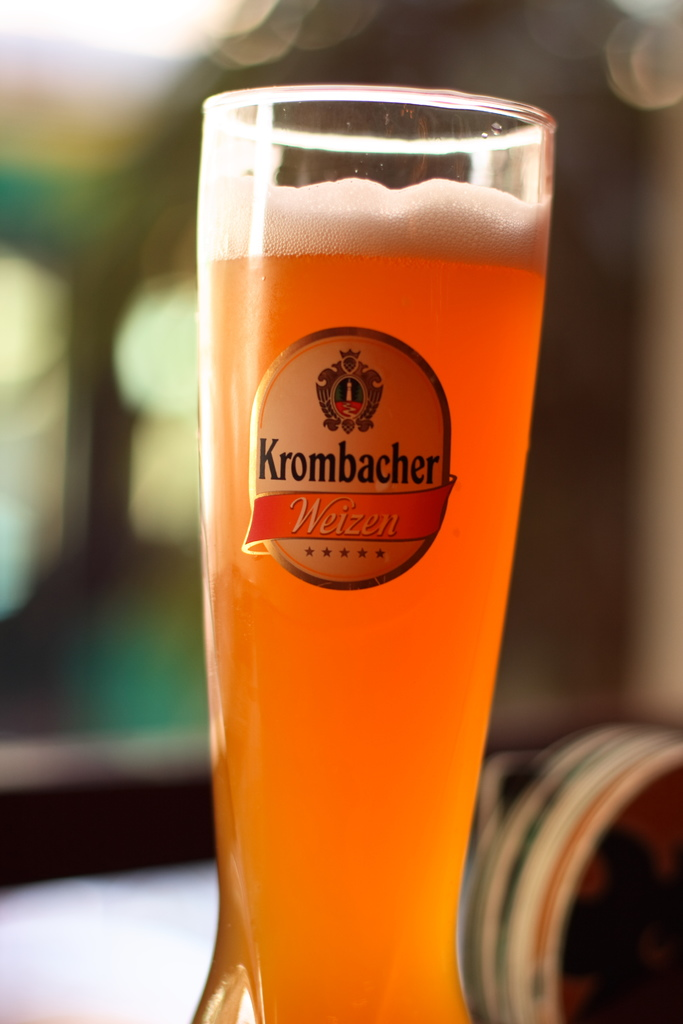Beer: (188, 174, 551, 1022)
